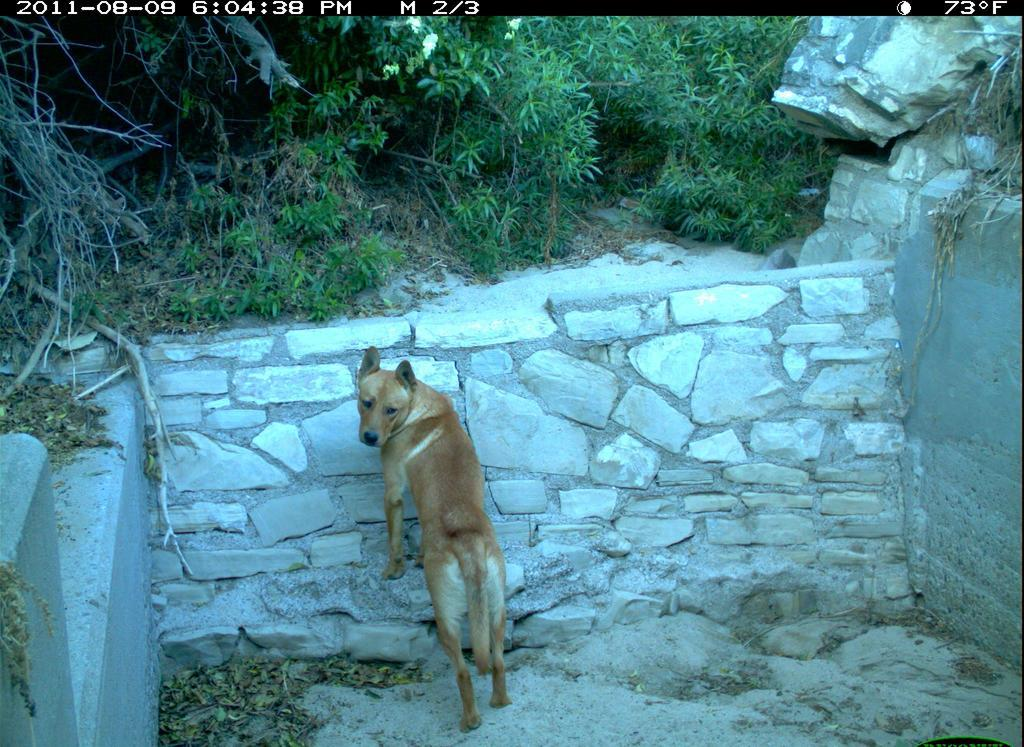dog: (347, 341, 523, 737)
